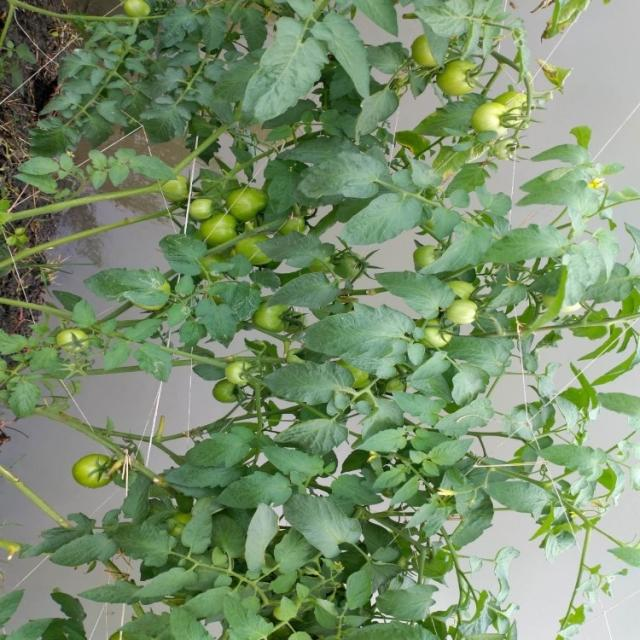tomato: (74, 453, 127, 499), (469, 97, 512, 152), (252, 302, 300, 351), (225, 179, 274, 225), (487, 87, 536, 130), (238, 230, 280, 279), (409, 31, 450, 78), (433, 58, 481, 95), (196, 208, 234, 254), (175, 197, 224, 226), (406, 321, 451, 352), (445, 297, 479, 337), (223, 352, 259, 389), (445, 275, 482, 311), (211, 377, 244, 413), (62, 328, 102, 356), (411, 244, 444, 271), (119, 2, 155, 26), (331, 256, 368, 279), (160, 176, 190, 202)
